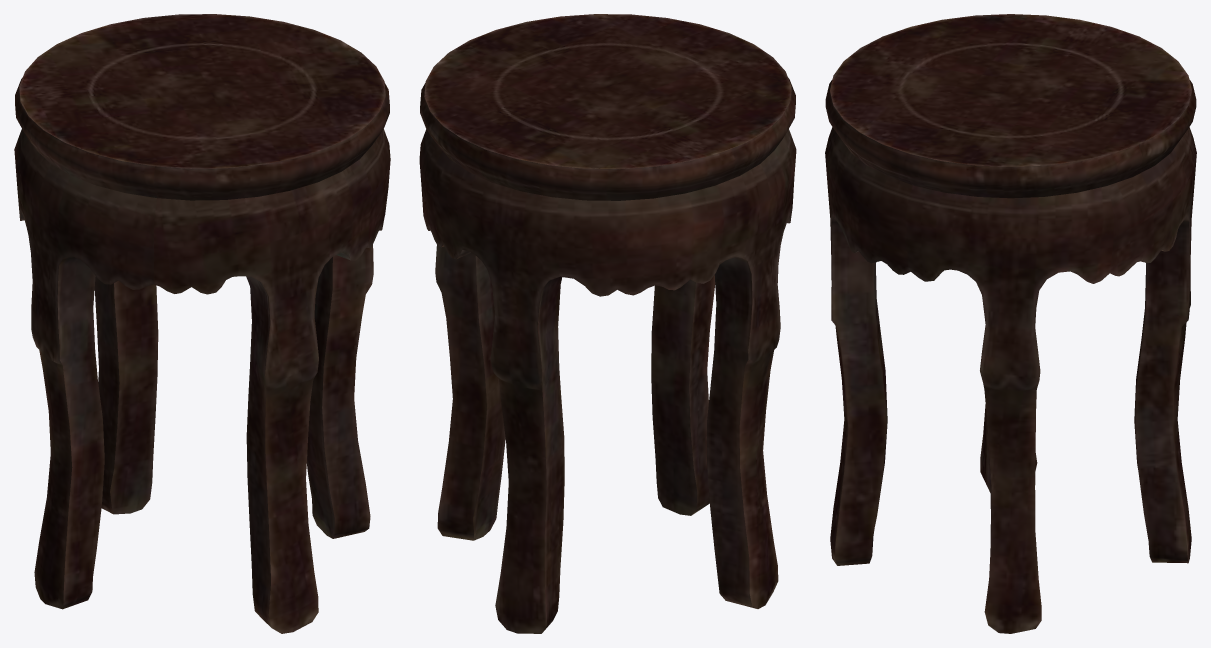
Rendered from WoodenTable_02.glb.
The picture shows the model from 3 angles, left to right: view 1: azimuth 30°, elevation 25°; view 2: azimuth 150°, elevation 25°; view 3: azimuth 270°, elevation 25°; orthographic projection.
Parts seen in each view (by area): view 1: WoodenTable_02; view 2: WoodenTable_02; view 3: WoodenTable_02.
Part boxes in pixels (x1,y1,x2,y2): WoodenTable_02: [14, 14, 390, 633]; WoodenTable_02: [419, 14, 796, 633]; WoodenTable_02: [825, 14, 1196, 633].
Bounding box in the file's own units: 0.3007 × 0.4177 × 0.3007.
1 material, 1 textured.
